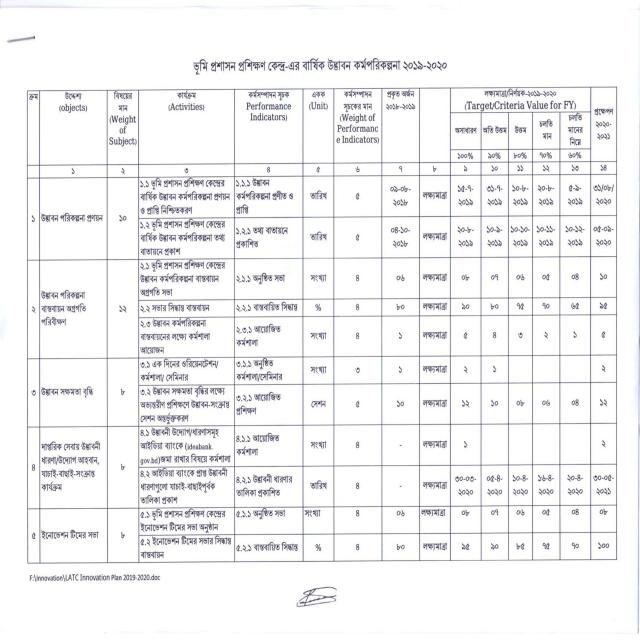table: (27, 86, 618, 564)
text: (139, 177, 231, 217), (139, 385, 231, 425), (140, 426, 232, 466), (140, 467, 228, 506), (139, 218, 226, 257), (139, 259, 226, 298), (41, 440, 101, 493), (139, 317, 211, 355), (140, 535, 232, 560), (236, 177, 294, 216), (140, 508, 226, 534), (140, 358, 220, 383), (40, 289, 87, 328), (28, 572, 161, 585), (235, 473, 294, 499), (235, 225, 289, 250), (295, 584, 342, 612), (236, 390, 282, 417), (236, 431, 282, 458), (236, 322, 282, 348), (235, 358, 283, 382), (140, 301, 212, 315), (41, 211, 104, 225), (236, 540, 299, 554), (235, 301, 298, 314), (39, 385, 94, 399), (236, 272, 286, 286), (41, 529, 99, 541), (236, 508, 286, 521), (454, 473, 478, 499), (592, 182, 616, 208), (563, 223, 586, 248), (389, 184, 412, 209), (592, 223, 614, 249), (593, 473, 615, 498), (389, 226, 411, 249), (510, 224, 531, 248), (537, 473, 556, 499), (535, 225, 556, 248), (510, 473, 529, 498), (537, 183, 556, 208), (566, 472, 584, 498), (456, 225, 475, 249), (485, 183, 503, 208), (456, 184, 474, 208), (511, 183, 529, 207), (485, 225, 503, 249), (486, 473, 503, 498), (566, 183, 583, 208), (421, 271, 448, 283), (422, 480, 448, 492), (422, 541, 448, 552), (420, 508, 446, 519), (422, 439, 448, 450), (422, 189, 447, 200), (421, 232, 448, 242), (421, 301, 448, 311), (482, 125, 508, 135), (422, 330, 448, 340), (422, 365, 448, 375), (453, 125, 477, 135), (308, 189, 328, 201), (423, 398, 447, 408), (309, 479, 328, 491), (309, 231, 328, 242), (510, 124, 527, 135), (456, 151, 474, 161), (511, 150, 527, 161), (304, 509, 321, 519), (310, 440, 327, 450), (310, 400, 327, 410), (310, 365, 327, 375), (310, 331, 327, 341), (310, 274, 327, 284), (565, 151, 582, 160), (487, 151, 502, 160), (117, 303, 128, 315), (598, 540, 610, 551), (515, 397, 526, 409), (568, 301, 581, 311), (539, 151, 553, 160), (460, 301, 471, 312), (515, 272, 526, 282), (570, 272, 580, 283), (598, 272, 609, 282), (569, 397, 580, 407), (541, 399, 552, 409), (460, 508, 471, 518), (488, 508, 499, 518), (314, 542, 323, 554), (118, 213, 128, 223), (460, 273, 470, 283), (489, 272, 499, 282), (489, 302, 499, 312), (460, 542, 470, 552), (490, 542, 500, 552), (570, 163, 580, 173), (395, 273, 405, 283), (395, 398, 405, 408), (597, 301, 608, 310), (515, 508, 526, 517), (515, 542, 526, 551), (461, 398, 470, 409), (395, 542, 406, 551), (541, 273, 551, 282), (542, 301, 551, 311), (599, 398, 608, 408), (598, 508, 608, 517), (541, 508, 551, 517), (541, 542, 551, 551), (570, 541, 580, 550), (490, 398, 499, 408), (541, 163, 550, 173), (395, 302, 405, 311), (490, 164, 499, 173), (516, 302, 525, 311), (571, 507, 580, 516), (598, 163, 607, 172), (396, 509, 405, 518), (30, 212, 36, 224), (516, 163, 524, 172), (314, 303, 322, 312), (30, 462, 37, 472), (600, 364, 607, 374), (397, 331, 404, 341), (30, 530, 36, 541), (120, 529, 126, 540), (462, 439, 468, 450), (355, 542, 361, 553), (516, 332, 524, 340), (29, 388, 36, 397), (119, 387, 126, 396), (120, 463, 127, 472), (396, 365, 403, 374), (491, 330, 497, 340), (543, 330, 549, 340), (572, 330, 578, 340), (462, 164, 469, 172), (463, 364, 468, 375), (120, 166, 126, 175), (491, 365, 497, 374), (601, 439, 607, 448), (355, 509, 361, 518), (355, 331, 360, 341), (183, 167, 189, 175), (462, 331, 468, 339), (600, 330, 606, 338), (354, 165, 360, 173), (431, 165, 437, 173), (31, 305, 36, 314), (355, 441, 360, 450), (355, 481, 360, 490), (355, 400, 360, 409), (398, 164, 403, 173), (355, 303, 360, 311), (355, 274, 360, 282), (355, 233, 360, 241), (355, 192, 360, 200), (70, 167, 75, 175), (267, 166, 271, 175), (398, 484, 404, 490), (355, 367, 360, 374), (316, 166, 321, 173), (397, 444, 403, 448)
title: (189, 54, 450, 78), (461, 88, 578, 112), (336, 89, 380, 147), (107, 90, 138, 149), (245, 89, 292, 124), (166, 90, 206, 114), (385, 89, 417, 112), (594, 107, 614, 143), (59, 91, 88, 114), (567, 112, 584, 147), (308, 90, 329, 113), (538, 118, 554, 141), (28, 93, 39, 101)
